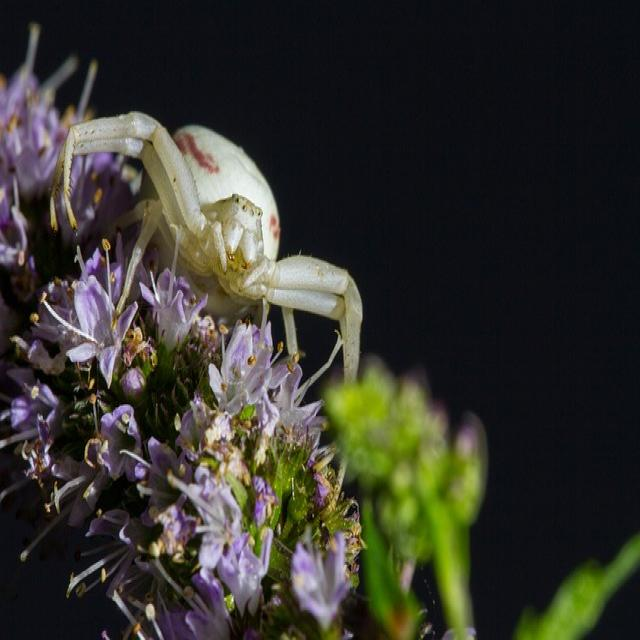spyder: (52, 111, 363, 376)
